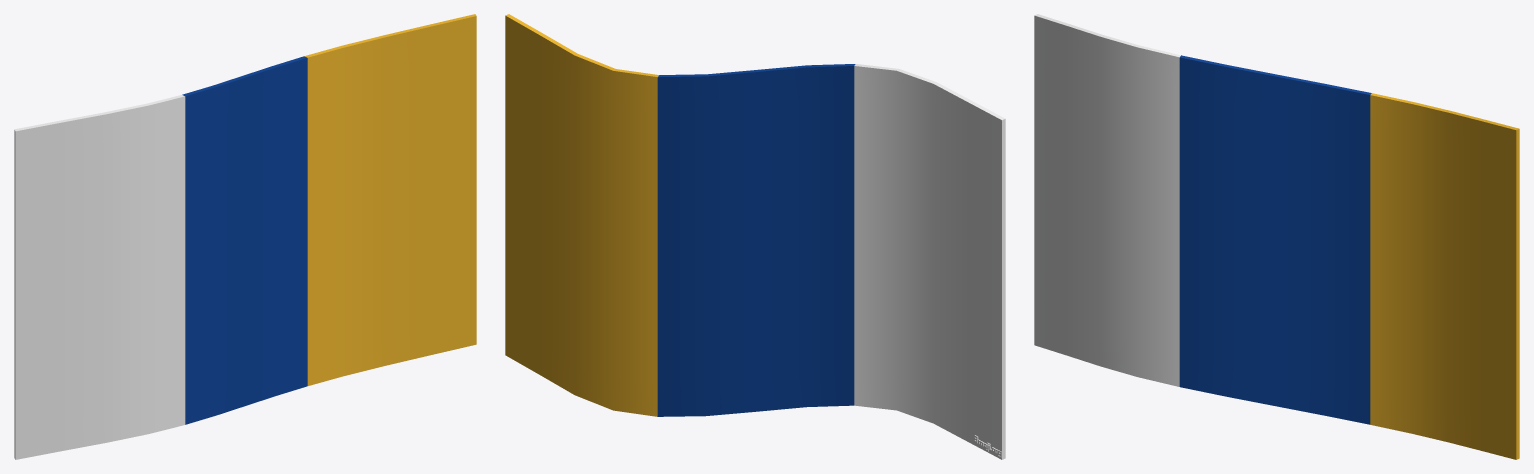
Rendered from flag_canary_islands.fbx.
The picture shows the model from 3 angles, left to right: view 1: azimuth 30°, elevation 25°; view 2: azimuth 150°, elevation 25°; view 3: azimuth 330°, elevation 25°; orthographic projection. The views are drawn at different scales.
Parts seen in each view (by area): view 1: Plane.451; view 2: Plane.451; view 3: Plane.451.
Boxes of the visible parts, x1=… form: Plane.451: x1=14, y1=14, x2=476, y2=459; Plane.451: x1=505, y1=14, x2=1005, y2=459; Plane.451: x1=1034, y1=14, x2=1519, y2=459.
Size of the model in its own units: 218 by 158 by 33.73.
Materials: 1 (1 with a texture image).
